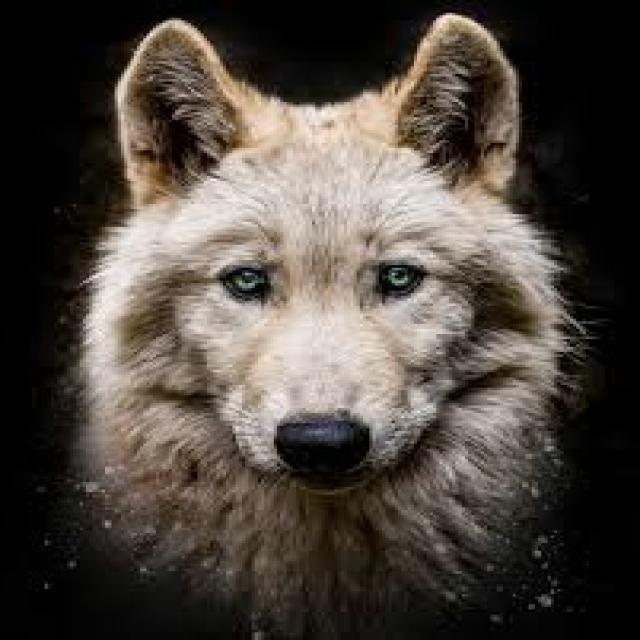wolf: (83, 13, 586, 637)
